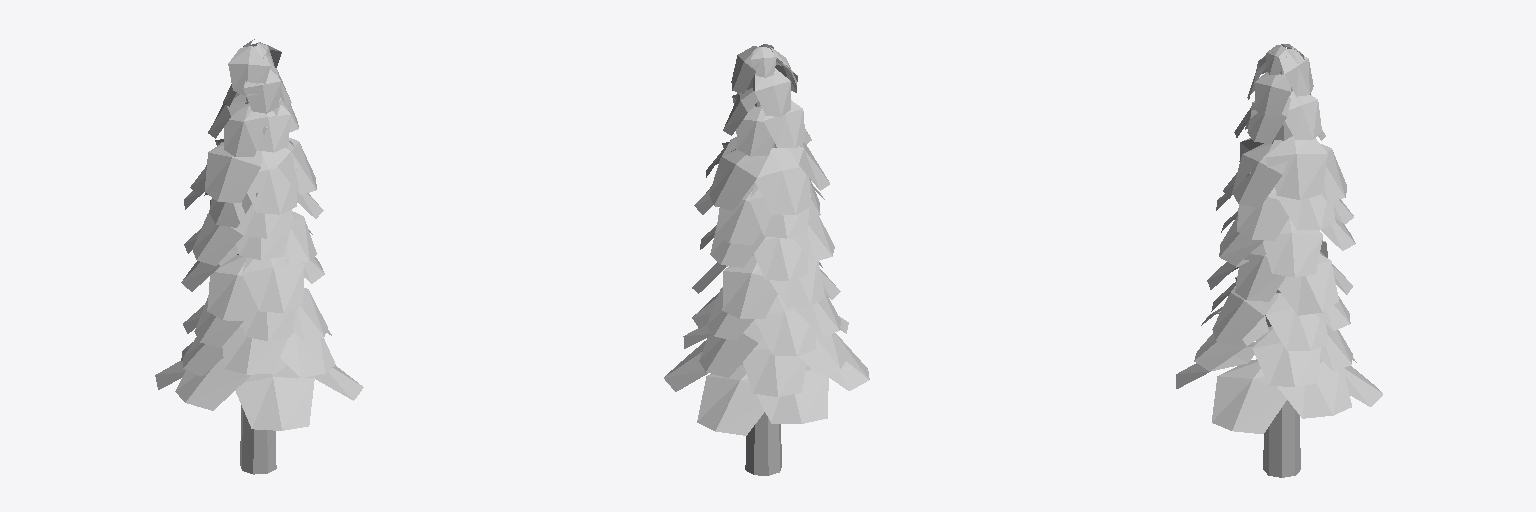
File: tree2.obj
3 renders of one model, left to right at view 1: azimuth 30°, elevation 25°; view 2: azimuth 150°, elevation 25°; view 3: azimuth 270°, elevation 25°, orthographic.
Parts seen in each view (by area): view 1: Circle; view 2: Circle; view 3: Circle.
Part boxes in pixels (x1,y1,x2,y2): Circle: (155,39,363,474); Circle: (664,44,869,475); Circle: (1176,44,1382,477).
Size of the model in its own units: 4.35 by 10.22 by 4.52.